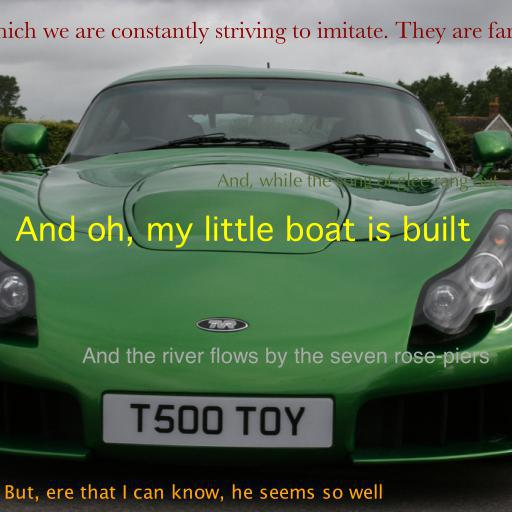Apple Chancery: (82, 347, 490, 368)
Baskerville: (0, 21, 512, 44)
Geneva: (15, 215, 471, 248)
Lucida Grande: (3, 484, 383, 502)
Optima: (216, 172, 498, 192)
